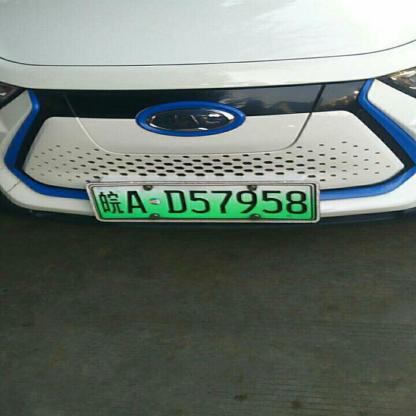lp: (88, 182, 316, 221)
